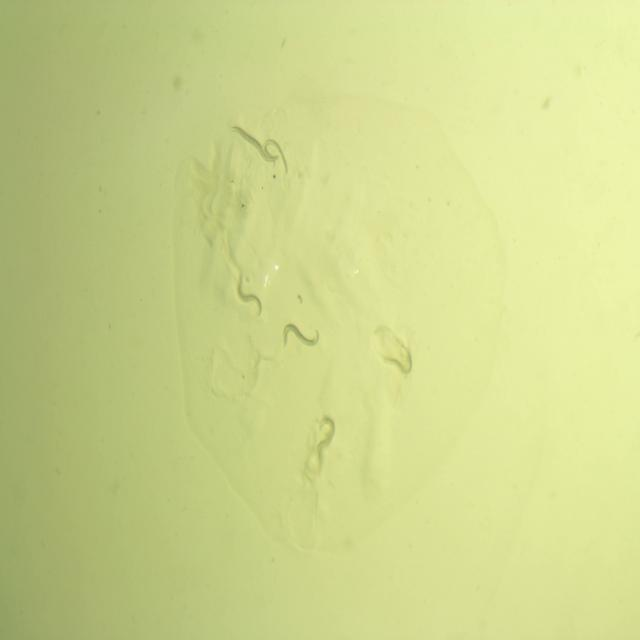worm: (226, 118, 281, 164), (232, 270, 268, 326), (279, 318, 325, 360), (377, 340, 419, 380), (310, 410, 338, 463), (260, 136, 292, 178)
